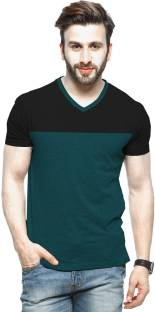Tshirts: (5, 69, 153, 278)
